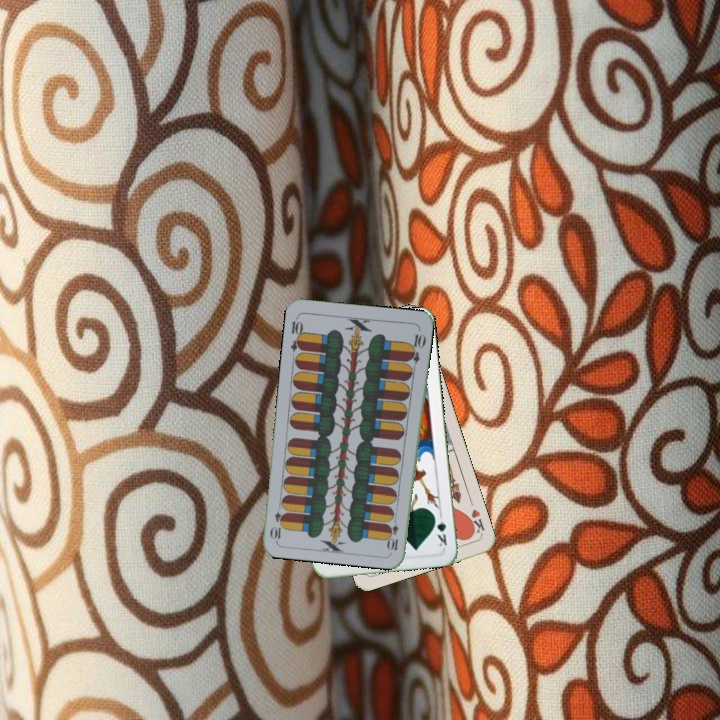E10: (287, 313, 306, 353), (386, 512, 401, 553)
GK: (430, 510, 450, 549)
HK: (463, 505, 487, 537)
